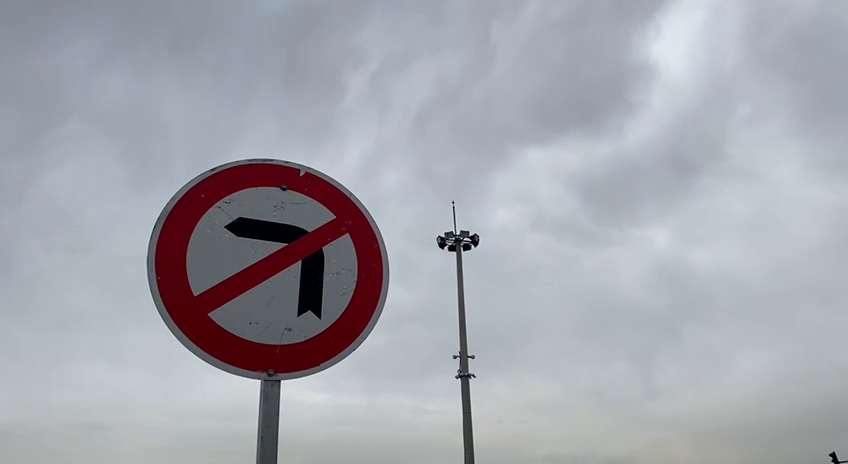noTurnLeft: (143, 155, 394, 389)
